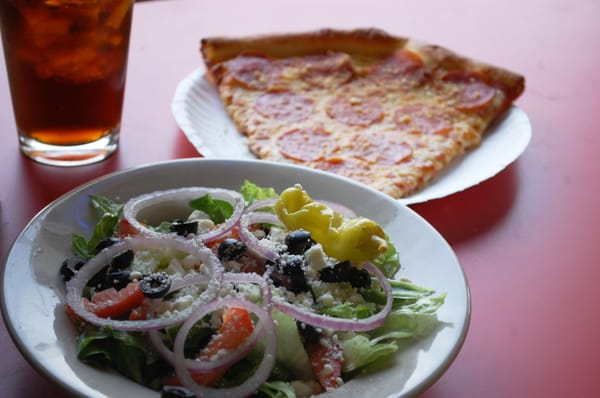sushi: (7, 157, 471, 393)
